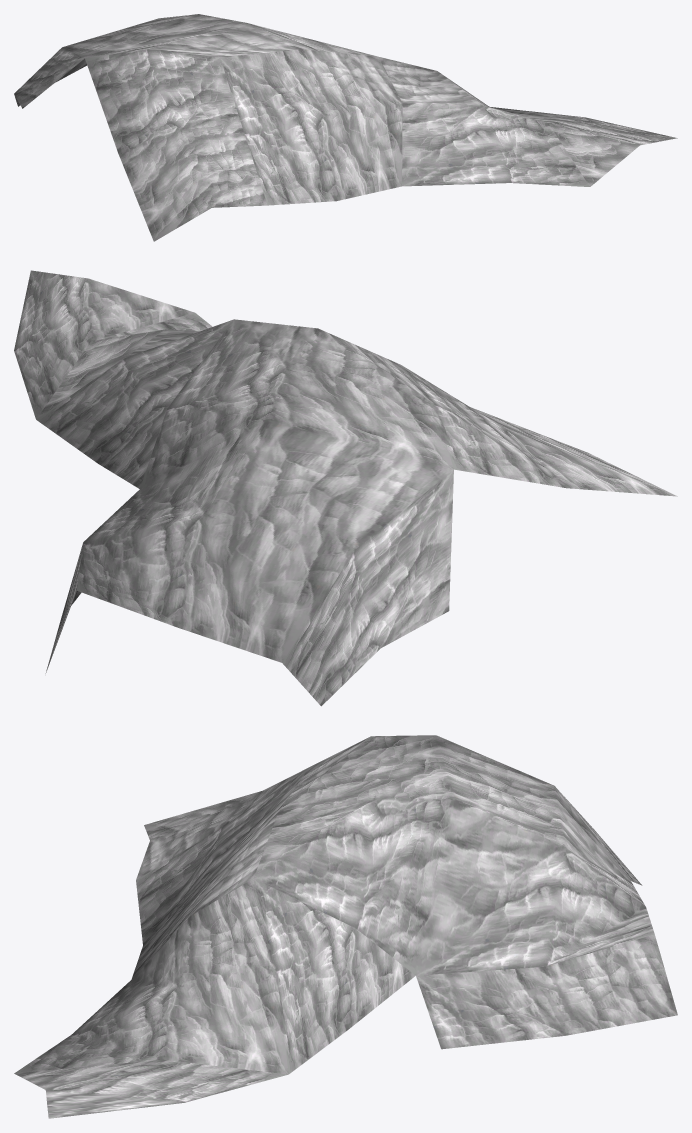
Rendered from SWORDLIGHT20_PS-AREA03_43.fbx.
3 renders of one model, top to bottom at view 1: azimuth 30°, elevation 25°; view 2: azimuth 150°, elevation 25°; view 3: azimuth 270°, elevation 25°, orthographic. The views are drawn at different scales.
Visible parts, largest first — view 1: SWORDLIGHT20_PS-AREA03_43; view 2: SWORDLIGHT20_PS-AREA03_43; view 3: SWORDLIGHT20_PS-AREA03_43.
Boxes of the visible parts, x1,y1,x2,y2 form: SWORDLIGHT20_PS-AREA03_43: [14, 14, 677, 241]; SWORDLIGHT20_PS-AREA03_43: [14, 270, 677, 706]; SWORDLIGHT20_PS-AREA03_43: [14, 735, 677, 1118].
Size of the model in its own units: 218040 by 60751 by 198123.
3 materials, 3 textured.
